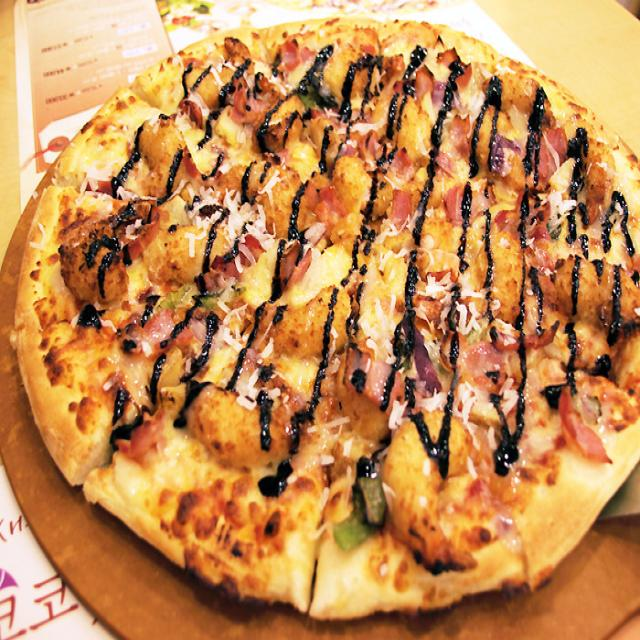Wet Waste: (10, 13, 640, 632)
